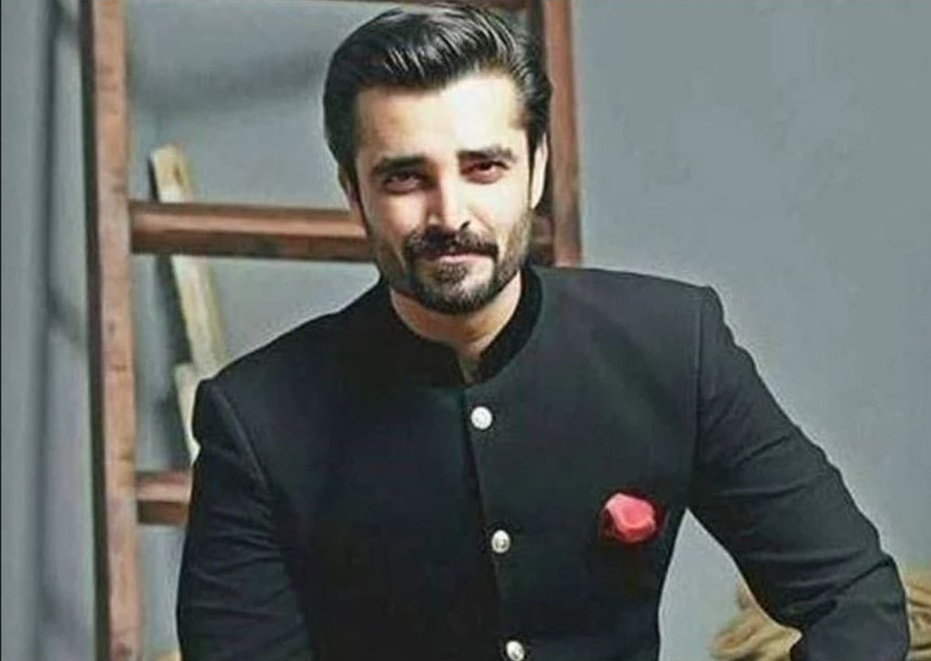NoMask: (370, 137, 527, 312)
